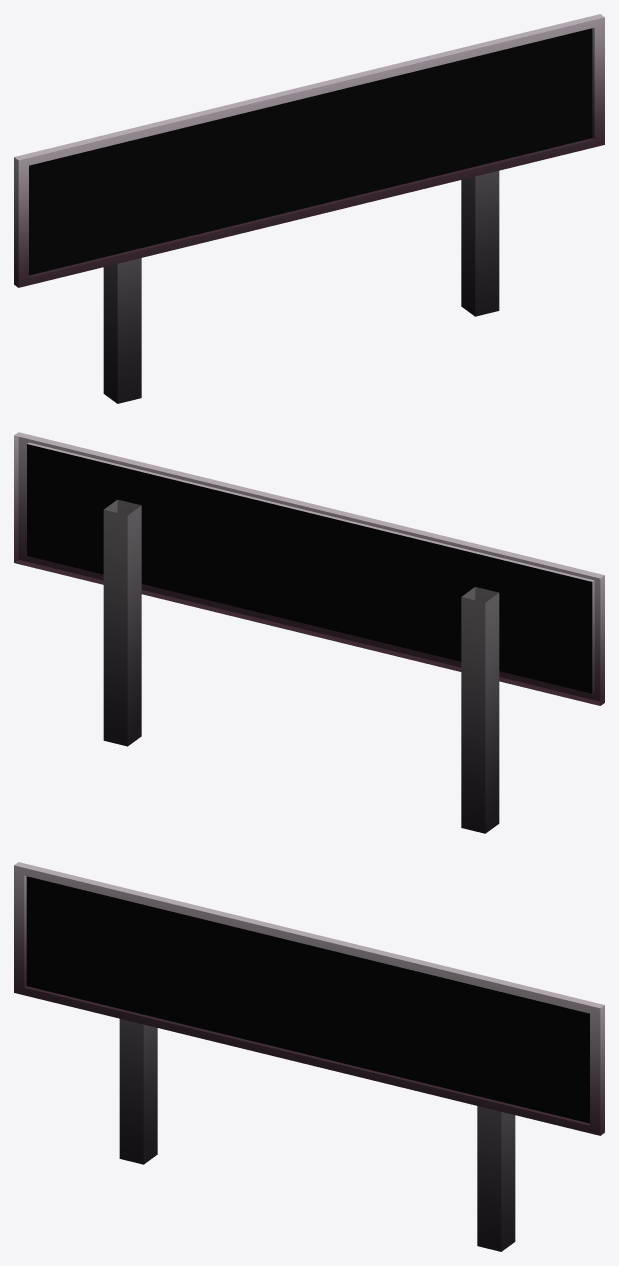
The model's file is LongScreen.fbx.
3 renders of one model, top to bottom at view 1: azimuth 30°, elevation 25°; view 2: azimuth 150°, elevation 25°; view 3: azimuth 330°, elevation 25°, orthographic.
Visible parts, largest first — view 1: Long_Sceen; view 2: Long_Sceen; view 3: Long_Sceen.
Part boxes in pixels (bbox=[...]): Long_Sceen: bbox=[14, 14, 604, 403]; Long_Sceen: bbox=[14, 432, 604, 833]; Long_Sceen: bbox=[14, 862, 604, 1251].
Size of the model in its own units: 37 by 16.34 by 1.88.
1 material, 1 textured.
